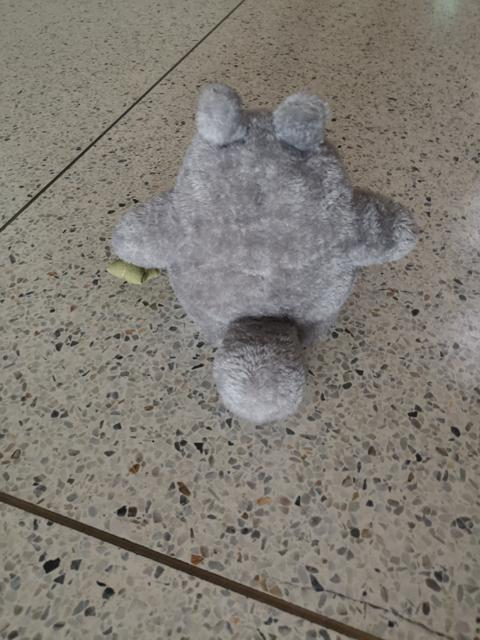totoro: (102, 81, 422, 429)
